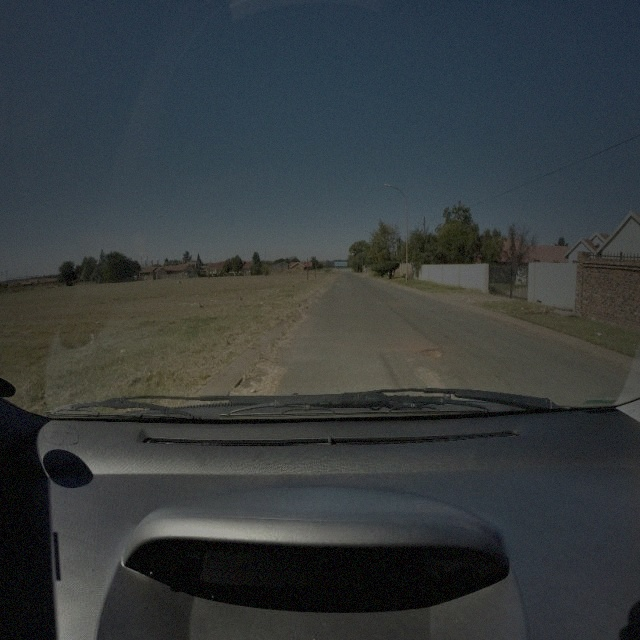pothole: (419, 346, 444, 359)
